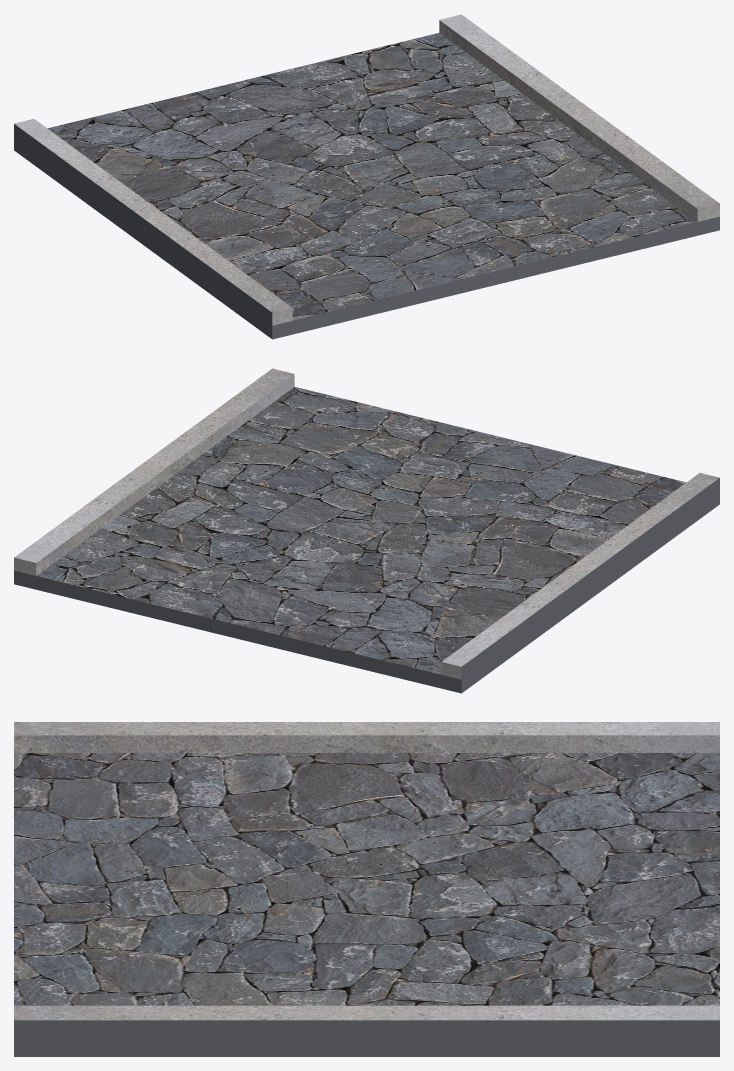
The model's file is walkPath.fbx.
3 views of the same model, one above another, from view 1: azimuth 30°, elevation 25°; view 2: azimuth 150°, elevation 25°; view 3: azimuth 270°, elevation 25° (orthographic). The views are drawn at different scales.
Parts seen in each view (by area): view 1: pCube5; view 2: pCube5; view 3: pCube5.
Part boxes in pixels (bbox=[...]): pCube5: bbox=[14, 14, 719, 339]; pCube5: bbox=[14, 368, 719, 693]; pCube5: bbox=[14, 722, 719, 1056].
Bounding box in the file's own units: 8.83 × 0.5035 × 8.83.
Materials: 1 (1 with a texture image).
